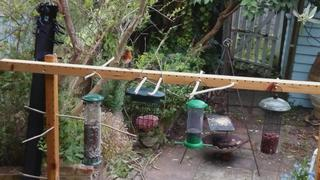robin: (118, 48, 132, 69)
